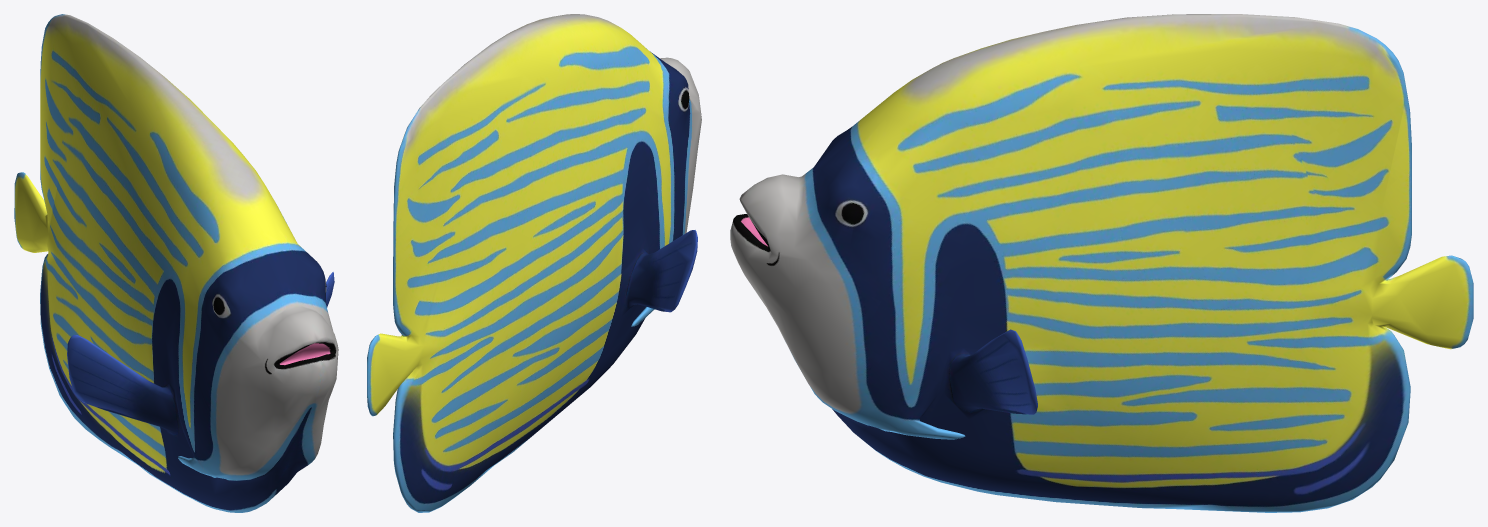
Rendered from emperor-angelfish_lod2.glb.
The picture shows the model from 3 angles, left to right: view 1: azimuth 30°, elevation 25°; view 2: azimuth 150°, elevation 25°; view 3: azimuth 270°, elevation 25°; orthographic projection. The views are drawn at different scales.
Parts seen in each view (by area): view 1: angel_fish_3.1; view 2: angel_fish_3.1; view 3: angel_fish_3.1.
Part boxes in pixels (bbox=[...]): angel_fish_3.1: bbox=[14, 14, 338, 512]; angel_fish_3.1: bbox=[367, 14, 701, 512]; angel_fish_3.1: bbox=[730, 14, 1473, 512].
Size of the model in its own units: 0.022 by 0.0325 by 0.0439.
1 material, 1 textured.
